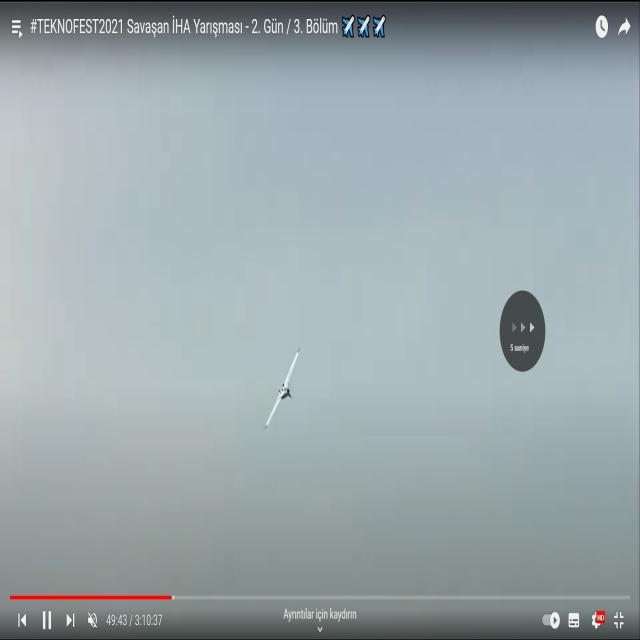iha: (263, 380, 300, 397)
